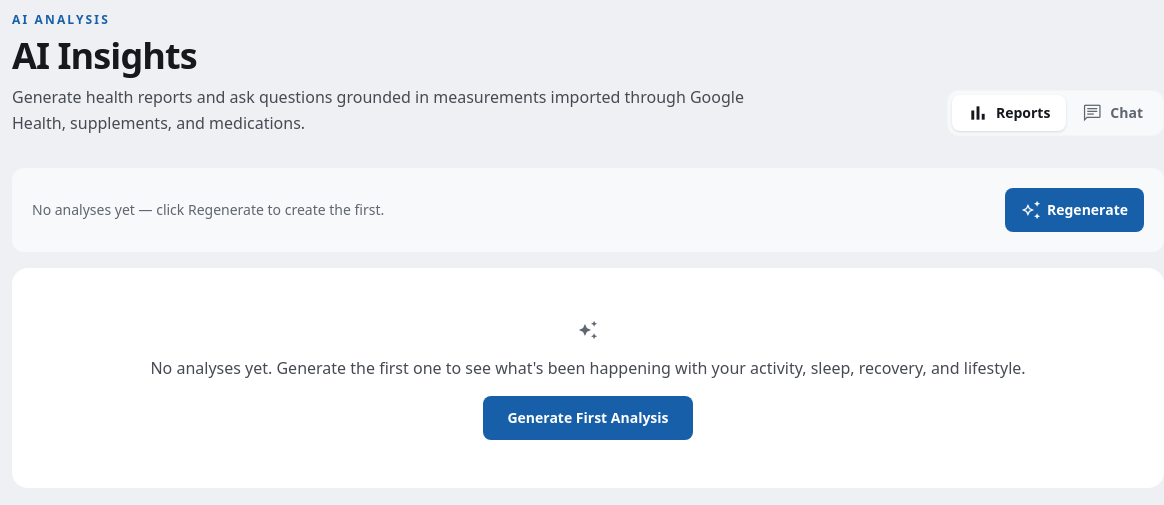
Scenario: Insights page › Regenerate kicks off a job, persists jobId to localStorage, and shows a progress card
The image size is (1164, 505).
Step 1. Click the button "Generate First Analysis" → (588, 418), box 483,396 -> 692,440
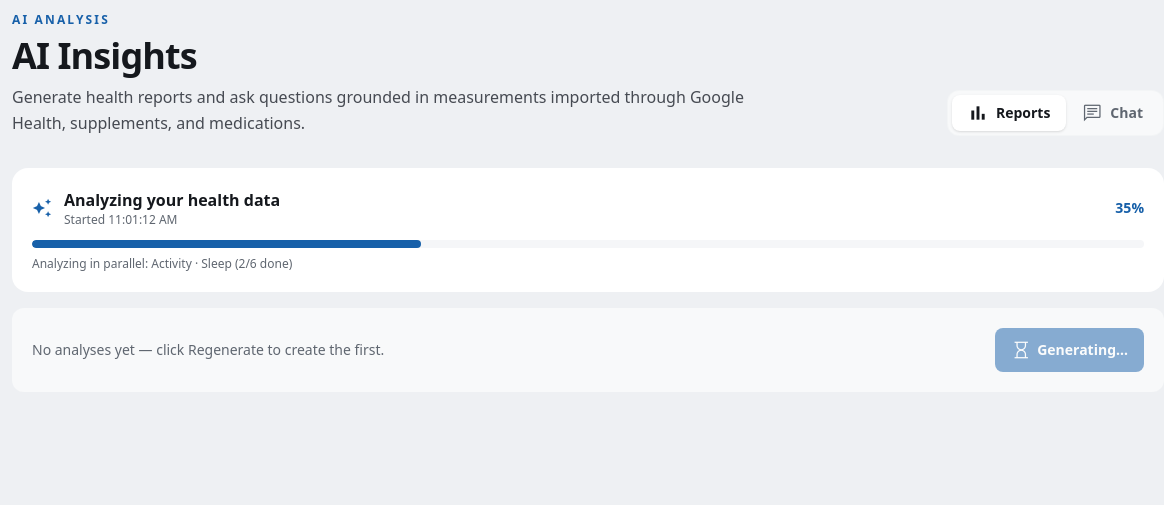
Expected: the text "Analyzing your health data" is shown, 64,189 -> 280,211
Expected: the text "Analyzing in parallel: Activity · Sleep (2/6 done)" is shown, 32,255 -> 292,272
